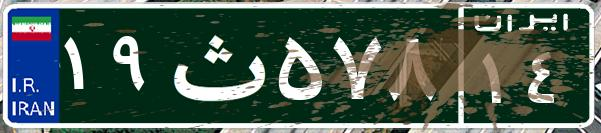1: (57, 26, 110, 107), (475, 38, 525, 113)
4: (525, 38, 570, 115)
5: (273, 28, 330, 110)
7: (330, 28, 385, 110)
8: (385, 28, 445, 110)
9: (110, 28, 158, 105)
ث: (158, 15, 273, 115)
